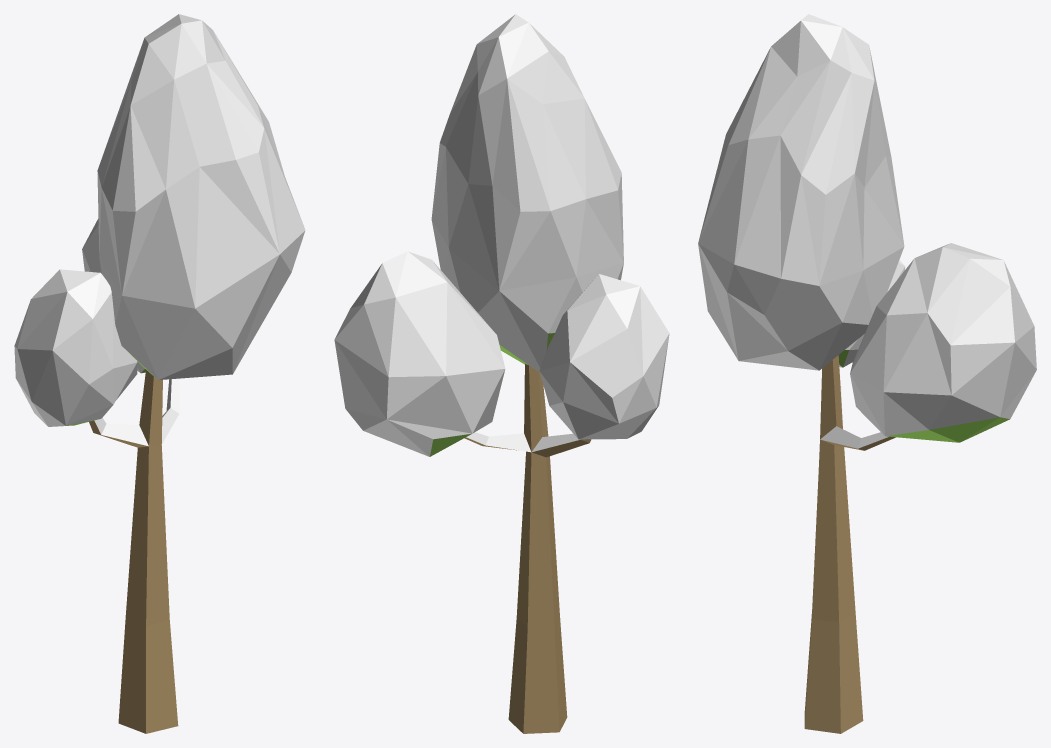
The model's file is Random_Tree_m_Snow_06.fbx.
3 renders of one model, left to right at view 1: azimuth 30°, elevation 25°; view 2: azimuth 150°, elevation 25°; view 3: azimuth 270°, elevation 25°, orthographic. The views are drawn at different scales.
Visible parts, largest first — view 1: Random_Tree_m_Snow_06; view 2: Random_Tree_m_Snow_06; view 3: Random_Tree_m_Snow_06.
Boxes of the visible parts, x1,y1,x2,y2 form: Random_Tree_m_Snow_06: [14, 14, 305, 733]; Random_Tree_m_Snow_06: [334, 14, 669, 733]; Random_Tree_m_Snow_06: [698, 14, 1036, 733].
Bounding box in the file's own units: 340 × 883 × 377.
